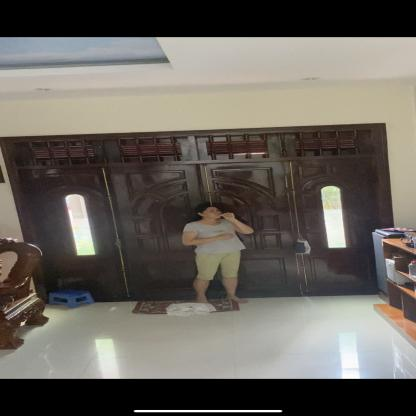cigarette: (219, 214, 228, 216)
person: (180, 200, 254, 310)
